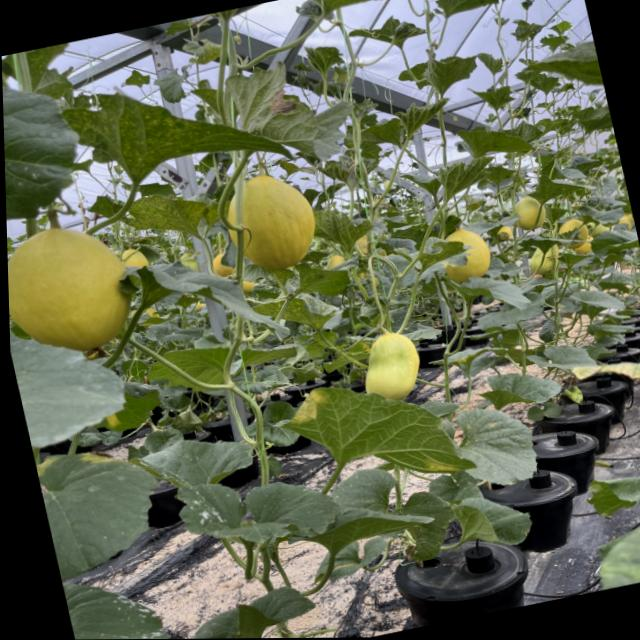CMV: (56, 62, 270, 198), (124, 185, 220, 251), (306, 202, 378, 254), (390, 95, 463, 137), (413, 229, 479, 272)
alternaria leaf blight: (286, 363, 477, 512), (221, 50, 364, 174)
downy mildew: (140, 426, 271, 499), (254, 288, 344, 343), (415, 43, 487, 97), (287, 254, 356, 306)
healthy: (34, 436, 176, 579), (444, 398, 543, 493), (62, 567, 175, 640), (450, 486, 537, 555), (445, 263, 535, 325), (429, 153, 503, 199)
powdery mildew: (172, 458, 348, 561), (167, 582, 323, 639), (476, 362, 567, 418), (580, 454, 640, 517)
